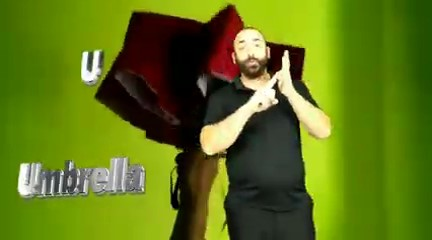U: (250, 47, 297, 112)
